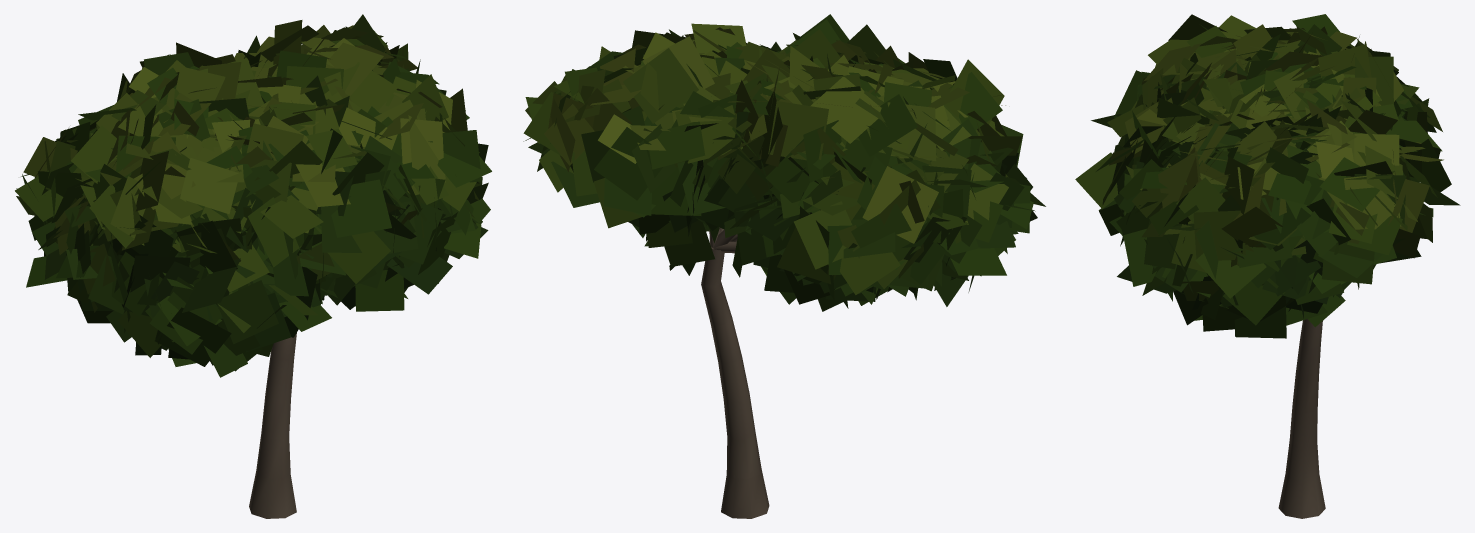
Rendered from PLN_Broadleaf_Wide.fbx.
The picture shows the model from 3 angles, left to right: view 1: azimuth 30°, elevation 25°; view 2: azimuth 150°, elevation 25°; view 3: azimuth 270°, elevation 25°; orthographic projection. The views are drawn at different scales.
Parts seen in each view (by area): view 1: PLN_Broadleaf_Wide; view 2: PLN_Broadleaf_Wide; view 3: PLN_Broadleaf_Wide.
Boxes of the visible parts, x1,y1,x2,y2 form: PLN_Broadleaf_Wide: (15,14,491,518); PLN_Broadleaf_Wide: (523,14,1045,518); PLN_Broadleaf_Wide: (1075,14,1460,518).
Bounding box in the file's own units: 9.78 × 9.86 × 7.84.
